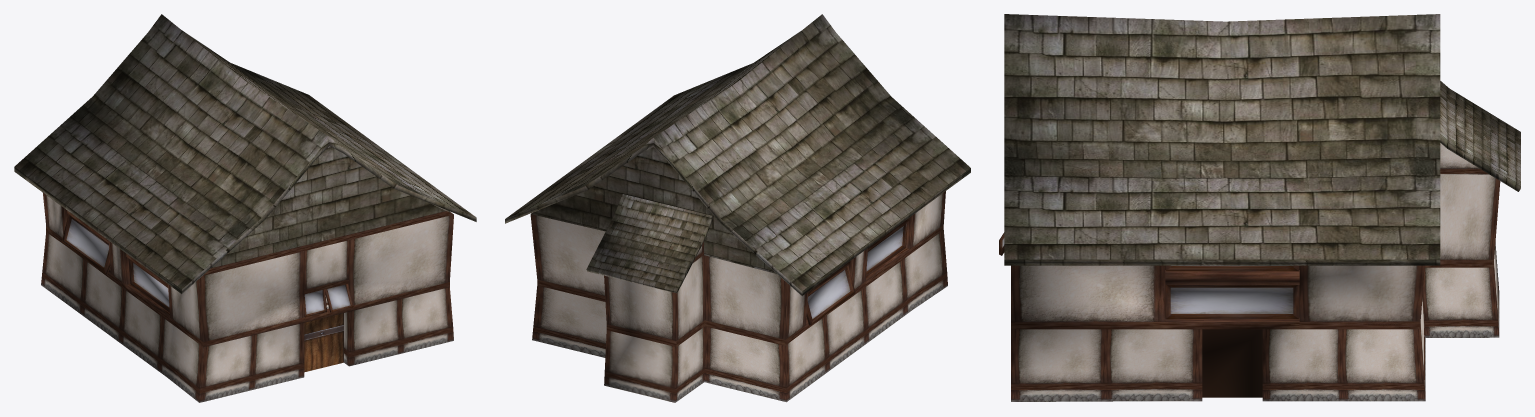
The model's file is House2.obj.
3 views of the same model, side by side, from view 1: azimuth 30°, elevation 25°; view 2: azimuth 150°, elevation 25°; view 3: azimuth 270°, elevation 25° (orthographic). The views are drawn at different scales.
Parts seen in each view (by area): view 1: Mesh_Shingles, Mesh_InnWalls, Mesh_Window, Mesh_Door; view 2: Mesh_Shingles, Mesh_InnWalls, Mesh_Window; view 3: Mesh_Shingles, Mesh_InnWalls, Mesh_Window.
Part boxes in pixels (x1=…): Mesh_Shingles: x1=14, y1=14, x2=476, y2=293; Mesh_InnWalls: x1=41, y1=193, x2=453, y2=402; Mesh_Window: x1=61, y1=214, x2=353, y2=317; Mesh_Door: x1=304, y1=313, x2=343, y2=372; Mesh_Shingles: x1=505, y1=14, x2=970, y2=295; Mesh_InnWalls: x1=530, y1=191, x2=947, y2=402; Mesh_Window: x1=806, y1=222, x2=907, y2=325; Mesh_Shingles: x1=1004, y1=14, x2=1520, y2=265; Mesh_InnWalls: x1=1011, y1=143, x2=1500, y2=401; Mesh_Window: x1=999, y1=232, x2=1299, y2=319.
Size of the model in its own units: 6.6 by 5.08 by 7.78.
4 materials, 4 textured.
